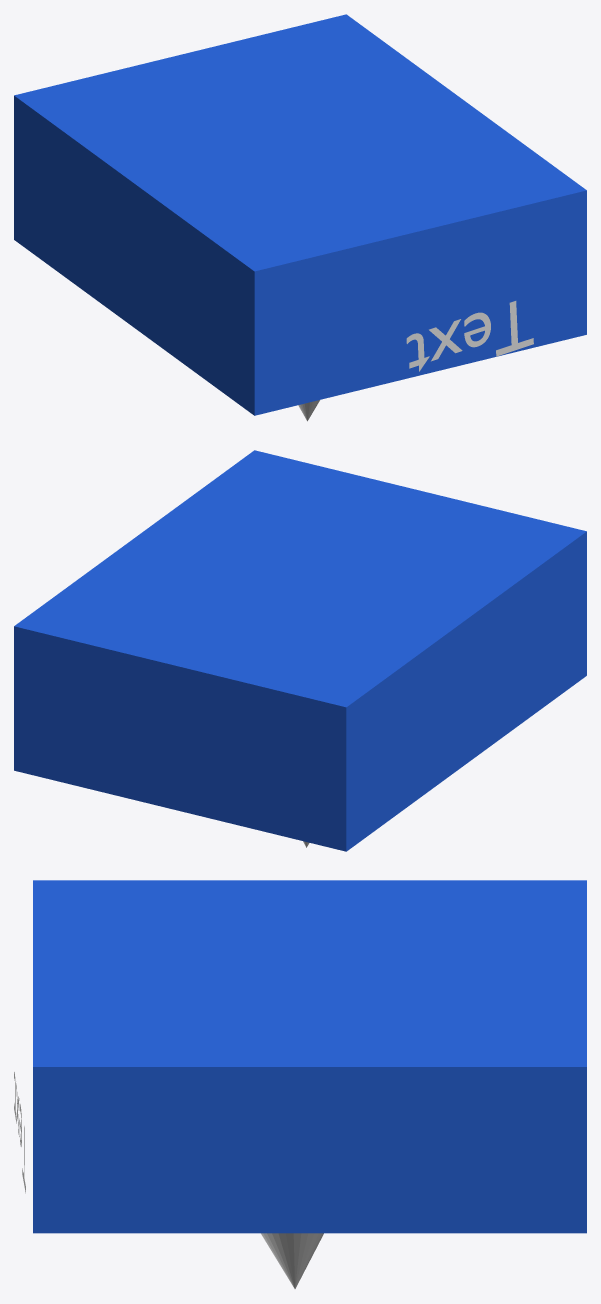
3 views of the same model, one above another, from view 1: azimuth 30°, elevation 25°; view 2: azimuth 150°, elevation 25°; view 3: azimuth 270°, elevation 25° (orthographic). The views are drawn at different scales.
Visible parts, largest first — view 1: Cube, Aryan; view 2: Cube; view 3: Cube, Cone.
Part boxes in pixels (x1,y1,x2,y2): Cube: (14,14,586,415); Aryan: (406,301,533,371); Cube: (14,450,586,851); Cube: (33,880,586,1233); Cone: (261,1233,323,1288).
Size of the model in its own units: 4.82 by 3.8 by 6.25.
